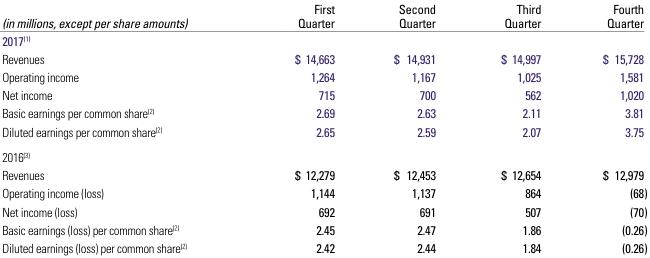table: (1, 0, 646, 255)
table column: (1, 0, 240, 255), (240, 0, 363, 255), (363, 0, 467, 255), (467, 0, 571, 255), (571, 0, 646, 255)
table column header: (1, 0, 646, 31)
table projected row header: (1, 143, 646, 165), (1, 31, 646, 49)
table row: (1, 0, 646, 31), (1, 121, 646, 143), (1, 143, 646, 165), (1, 201, 646, 220), (1, 31, 646, 49), (1, 49, 646, 67), (1, 67, 646, 85), (1, 85, 646, 103), (1, 103, 646, 121), (1, 165, 646, 183), (1, 183, 646, 201), (1, 220, 646, 238), (1, 238, 646, 255)
